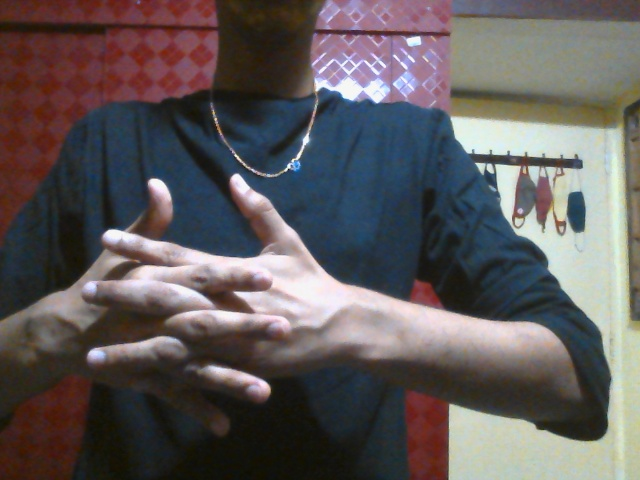W: (71, 174, 341, 438)
